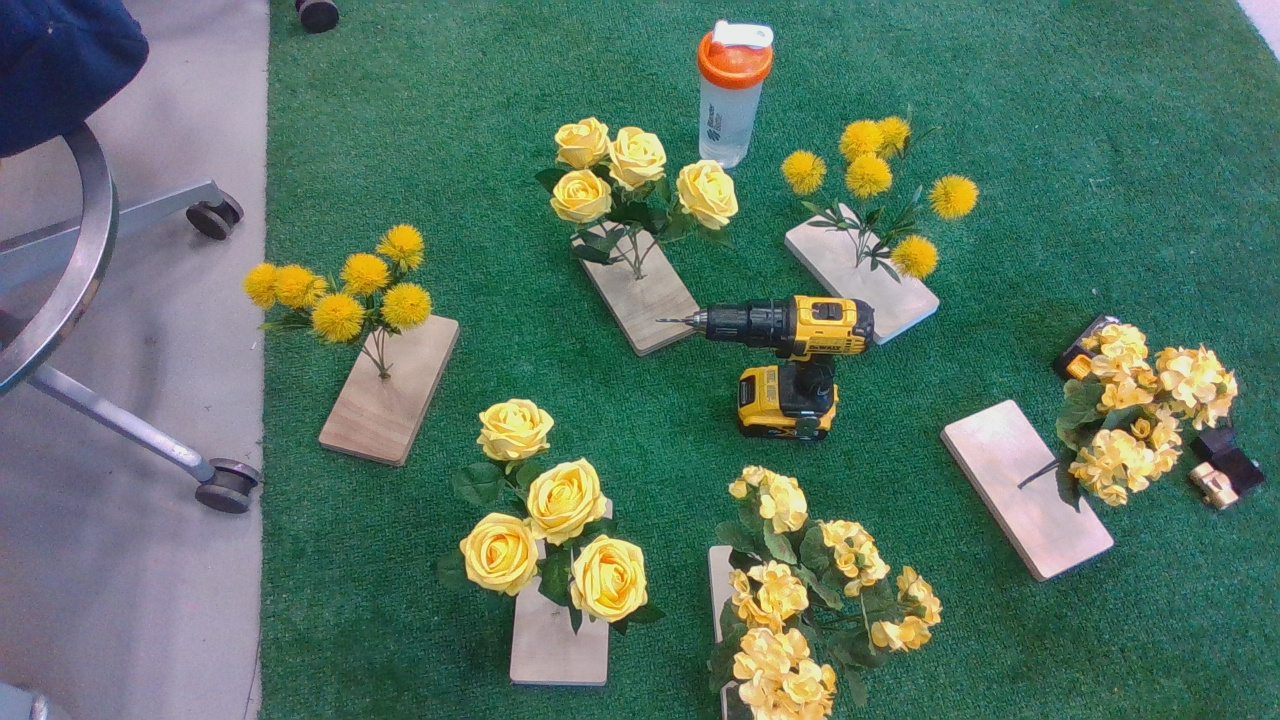dandelion: (780, 112, 1010, 292), (244, 215, 451, 385)
geranium: (688, 460, 953, 720), (1032, 304, 1248, 521)
rose: (438, 394, 676, 654), (528, 109, 754, 276)
